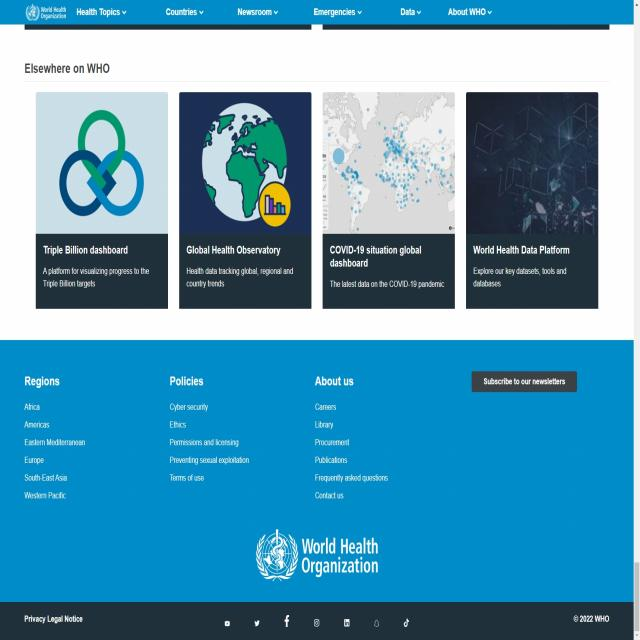menu-bar: (71, 1, 498, 21)
